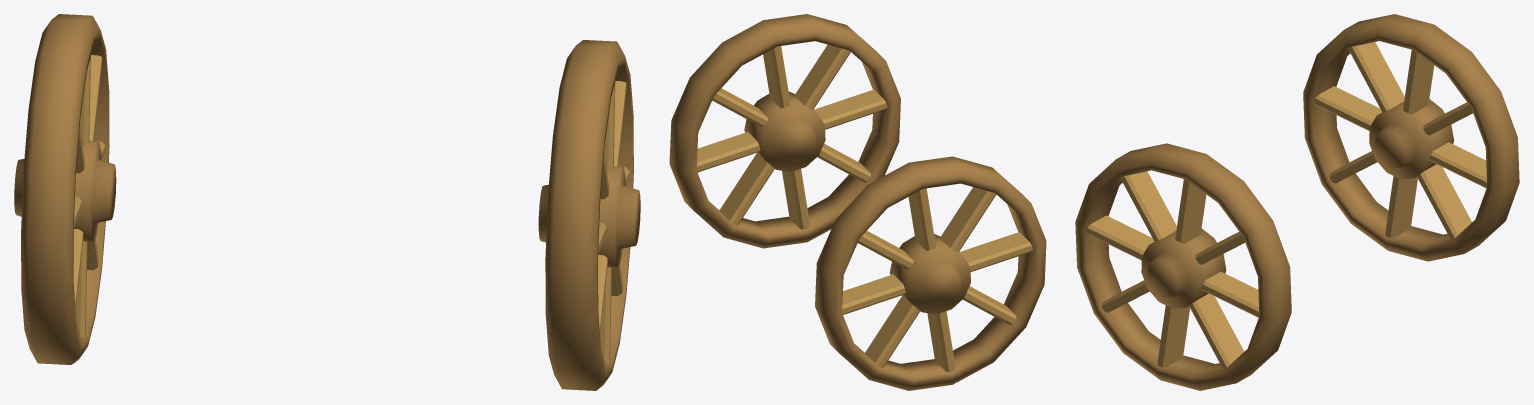
The model's file is Cannon_Wheels.gltf.
The picture shows the model from 3 angles, left to right: view 1: azimuth 30°, elevation 25°; view 2: azimuth 150°, elevation 25°; view 3: azimuth 270°, elevation 25°; orthographic projection. The views are drawn at different scales.
Parts seen in each view (by area): view 1: Cannon_Wheels; view 2: Cannon_Wheels; view 3: Cannon_Wheels.
Boxes of the visible parts, x1,y1,x2,y2 form: Cannon_Wheels: [14, 14, 640, 390]; Cannon_Wheels: [669, 14, 1046, 390]; Cannon_Wheels: [1075, 14, 1519, 390].
Size of the model in its own units: 2.88 by 1.52 by 2.68.
